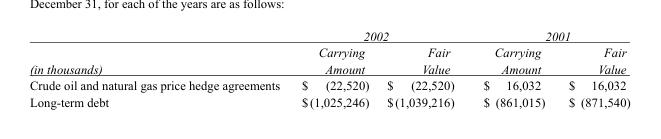table: (28, 28, 629, 108)
table column: (28, 28, 290, 108), (377, 28, 468, 108), (468, 28, 556, 108), (290, 28, 377, 108), (556, 28, 629, 108)
table column header: (28, 28, 629, 76)
table row: (28, 43, 629, 76), (28, 76, 629, 93), (28, 28, 629, 43), (28, 93, 629, 108)
table spanning cell: (28, 28, 290, 76), (290, 28, 468, 43), (468, 28, 629, 43)
